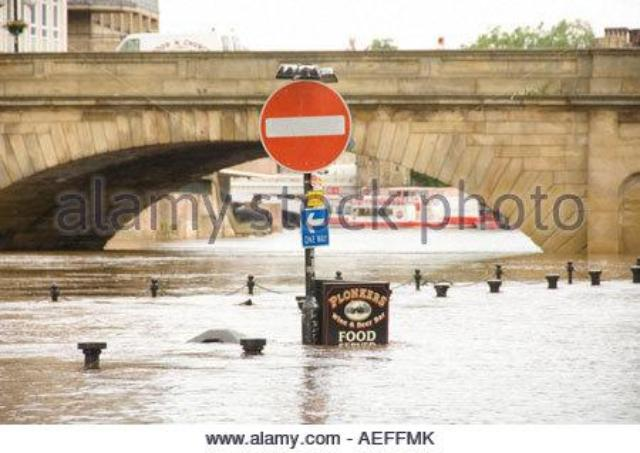B2: (258, 78, 350, 173)
